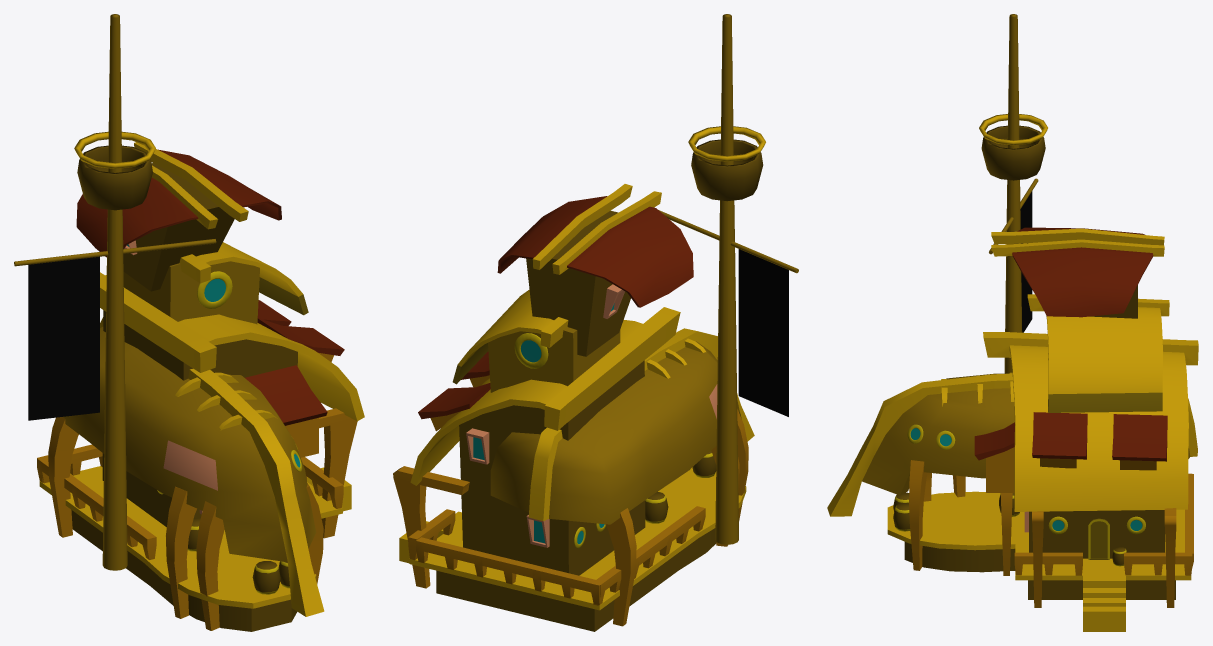
File: Shipwreck base.fbx
The picture shows the model from 3 angles, left to right: view 1: azimuth 30°, elevation 25°; view 2: azimuth 150°, elevation 25°; view 3: azimuth 270°, elevation 25°; orthographic projection. The views are drawn at different scales.
Parts seen in each view (by area): view 1: shipwreck_base_merged; view 2: shipwreck_base_merged; view 3: shipwreck_base_merged.
Part boxes in pixels (x1=…): shipwreck_base_merged: x1=14, y1=14, x2=364, y2=631; shipwreck_base_merged: x1=393, y1=14, x2=798, y2=631; shipwreck_base_merged: x1=827, y1=14, x2=1198, y2=631.
Size of the model in its own units: 12.09 by 18.74 by 12.55.
